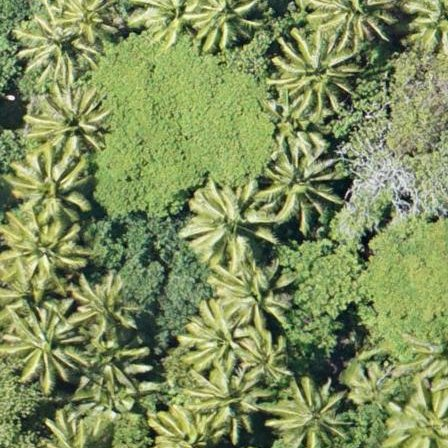palm_tree: (270, 25, 355, 116), (267, 370, 351, 448), (185, 180, 262, 261), (263, 142, 341, 219), (1, 215, 77, 293), (4, 306, 79, 383), (75, 322, 151, 394), (217, 257, 291, 330), (7, 149, 84, 219), (180, 304, 255, 375), (29, 87, 104, 157), (192, 367, 263, 435), (381, 381, 448, 448), (71, 273, 138, 340), (185, 1, 265, 54), (18, 18, 87, 78), (310, 1, 390, 41), (397, 1, 448, 58), (435, 442, 448, 448)
